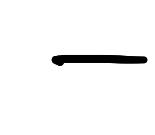minus: (51, 54, 148, 66)
